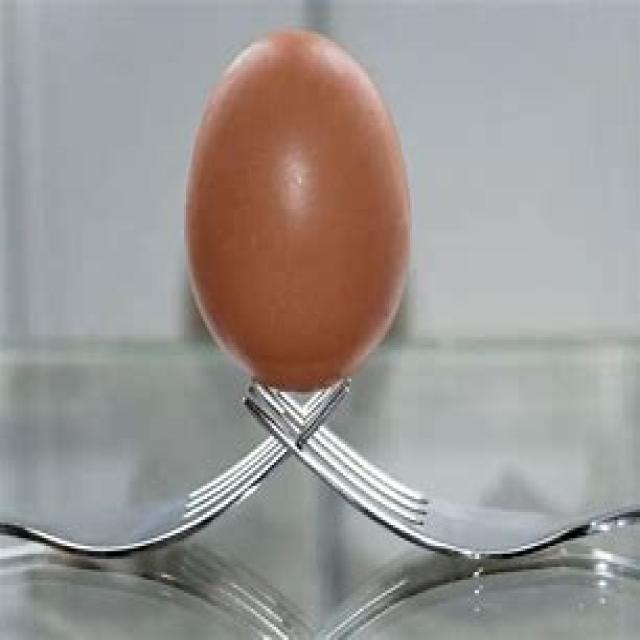Brown Egg: (186, 21, 437, 399)
